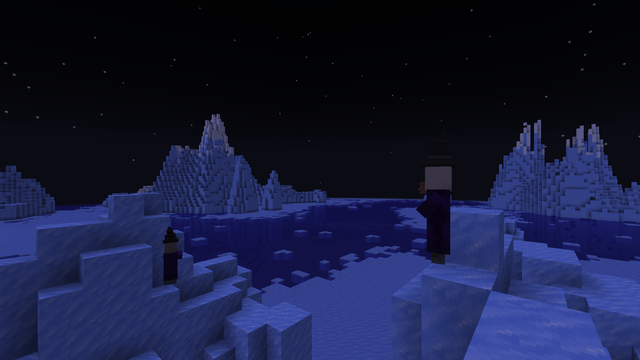sorcieres: (418, 162, 458, 267), (161, 237, 179, 286)
